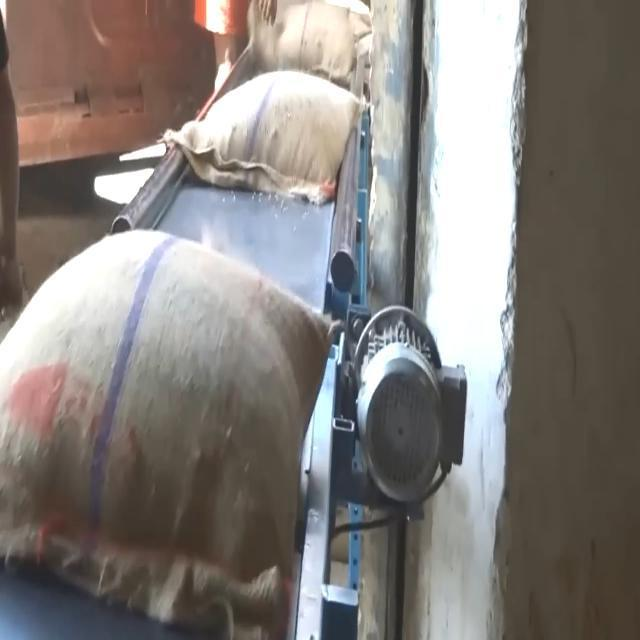gunny_bag: (0, 217, 345, 640), (162, 75, 360, 212)
